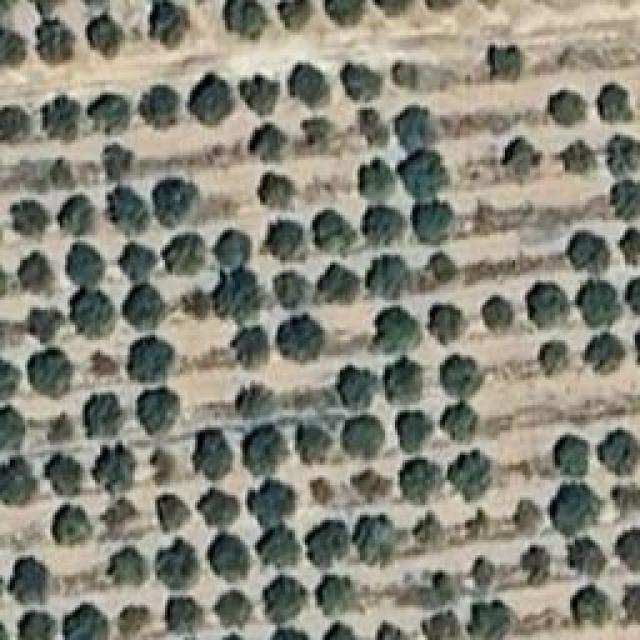Tree: (270, 307, 326, 364), (523, 280, 578, 337), (350, 513, 405, 569), (573, 278, 628, 334), (451, 448, 508, 502), (210, 265, 266, 319), (183, 73, 236, 128), (563, 228, 618, 280), (396, 460, 448, 514), (135, 385, 188, 435), (300, 518, 351, 569), (338, 415, 390, 465), (190, 423, 234, 482), (313, 205, 364, 254), (105, 185, 161, 229), (70, 293, 119, 343), (152, 543, 197, 597), (10, 553, 54, 607), (443, 352, 493, 399), (150, 178, 198, 226), (237, 425, 284, 474), (578, 330, 627, 377), (42, 453, 88, 503), (555, 485, 600, 535), (25, 350, 72, 397), (415, 200, 462, 247), (314, 573, 358, 623), (260, 568, 303, 619), (470, 603, 529, 640), (225, 323, 271, 370), (45, 95, 88, 145), (398, 103, 440, 153), (225, 0, 272, 44), (400, 150, 443, 198), (85, 390, 124, 442), (435, 297, 478, 344), (93, 448, 133, 498), (340, 360, 380, 410), (65, 600, 116, 639), (130, 85, 175, 129), (410, 252, 455, 296), (160, 228, 202, 275), (215, 225, 257, 272), (368, 252, 410, 299), (230, 380, 271, 428), (345, 60, 387, 106), (285, 57, 326, 104), (90, 83, 129, 132), (237, 70, 282, 112), (388, 357, 428, 404), (485, 40, 525, 87), (568, 538, 605, 588), (497, 143, 542, 184), (600, 430, 640, 476), (142, 0, 180, 48), (53, 500, 91, 548), (602, 130, 640, 178), (113, 595, 155, 638), (573, 588, 617, 629), (205, 535, 244, 581), (540, 340, 579, 386), (158, 595, 199, 638), (60, 245, 100, 289), (372, 313, 418, 351), (347, 466, 393, 504), (18, 250, 55, 297), (598, 78, 635, 125), (250, 535, 290, 578), (353, 110, 388, 159), (83, 15, 123, 57), (150, 493, 192, 533), (420, 605, 468, 640), (513, 498, 548, 546), (35, 23, 74, 66), (123, 288, 162, 331), (318, 262, 356, 306), (393, 408, 431, 452), (428, 568, 469, 608), (130, 340, 169, 382), (215, 585, 254, 627), (265, 220, 303, 263), (548, 88, 591, 126), (558, 135, 596, 178), (97, 140, 143, 175), (23, 303, 63, 343), (174, 283, 212, 325), (298, 422, 333, 467), (518, 540, 553, 585), (115, 243, 156, 281), (103, 545, 140, 587), (62, 195, 97, 239), (13, 198, 51, 238), (200, 490, 237, 531), (313, 0, 363, 30), (3, 460, 34, 508), (0, 105, 39, 143), (253, 485, 291, 524), (306, 471, 342, 512), (553, 440, 587, 483), (10, 605, 50, 640), (387, 53, 421, 93), (483, 293, 518, 331), (100, 503, 134, 542), (89, 346, 122, 386), (275, 272, 303, 319), (355, 158, 387, 199), (610, 175, 639, 220), (45, 158, 80, 195), (40, 411, 77, 444), (445, 395, 478, 432), (245, 122, 280, 156), (362, 205, 396, 239), (615, 528, 639, 576), (275, 0, 310, 30), (258, 172, 289, 205), (468, 553, 496, 589), (0, 28, 24, 68), (0, 408, 23, 448), (617, 220, 640, 260), (0, 359, 20, 404), (373, 0, 413, 22), (268, 620, 311, 640), (410, 512, 436, 544), (615, 483, 640, 516), (322, 617, 357, 640), (623, 578, 640, 622), (375, 622, 415, 640), (625, 280, 639, 321)
